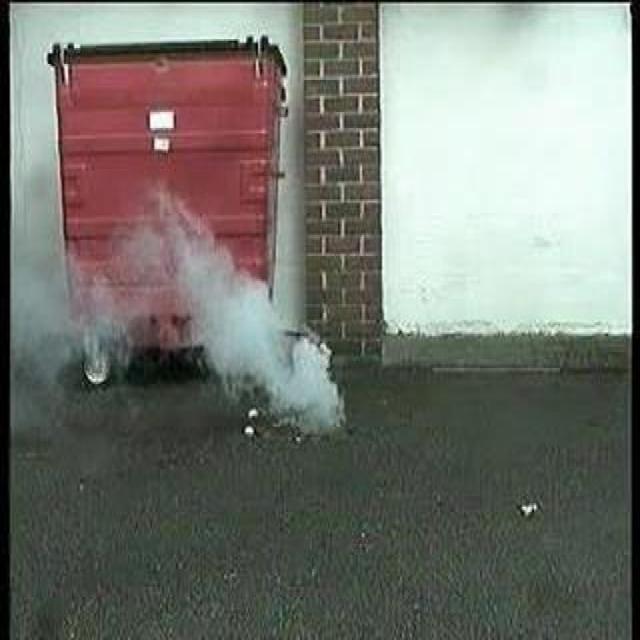Smoke: (11, 175, 348, 440)
